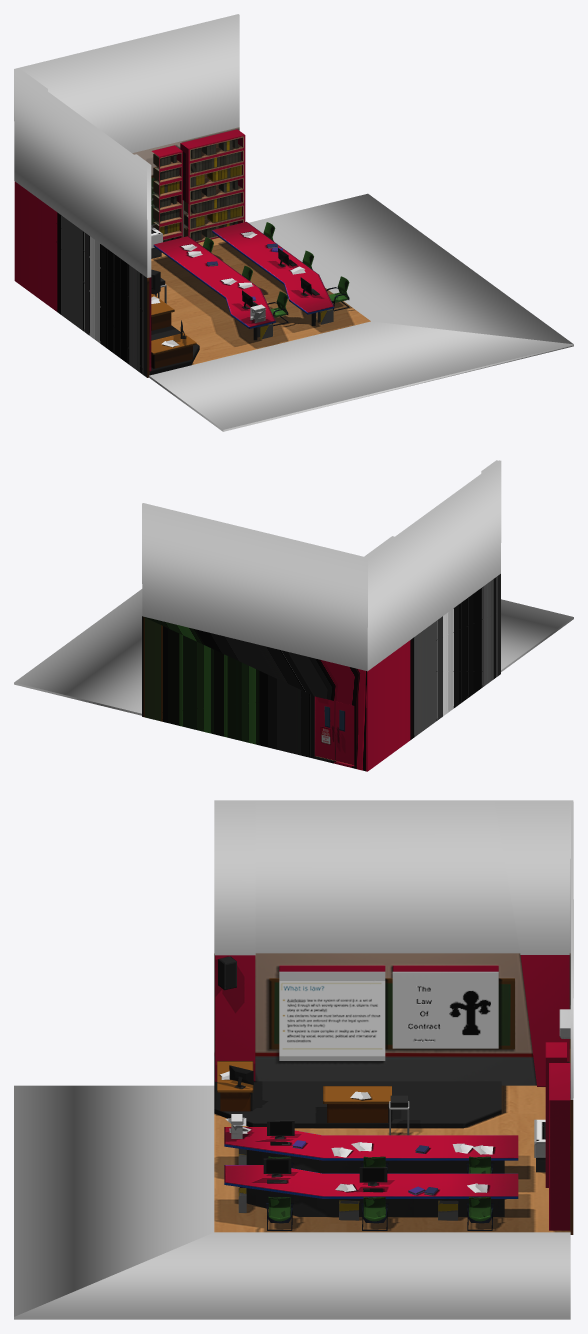
Rendered from Tx_Interior_Education_Research_20170727.fbx.
3 renders of one model, top to bottom at view 1: azimuth 30°, elevation 25°; view 2: azimuth 150°, elevation 25°; view 3: azimuth 270°, elevation 25°, orthographic. The views are drawn at different scales.
Parts seen in each view (by area): view 1: polySurface798, bake_layer_2, bake_layer_1; view 2: polySurface798, bake_layer_2; view 3: polySurface798, bake_layer_2, bake_layer_1.
Part boxes in pixels (x1=…): polySurface798: x1=14, y1=14, x2=573, y2=431; bake_layer_2: x1=14, y1=127, x2=370, y2=377; bake_layer_1: x1=151, y1=129, x2=333, y2=339; polySurface798: x1=14, y1=460, x2=573, y2=715; bake_layer_2: x1=142, y1=574, x2=500, y2=771; polySurface798: x1=14, y1=800, x2=573, y2=1319; bake_layer_2: x1=214, y1=953, x2=573, y2=1234; bake_layer_1: x1=238, y1=1042, x2=570, y2=1230.
Bounding box in the file's own units: 82.41 × 47.3 × 83.76.
